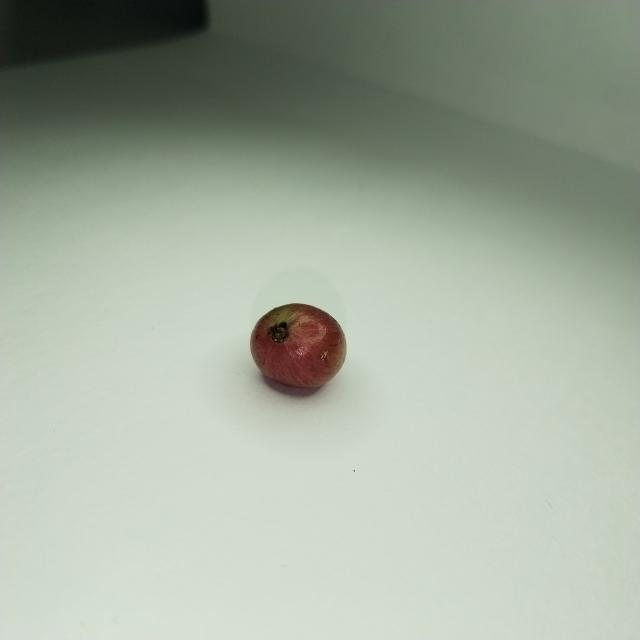Infectado: (249, 303, 347, 388)
